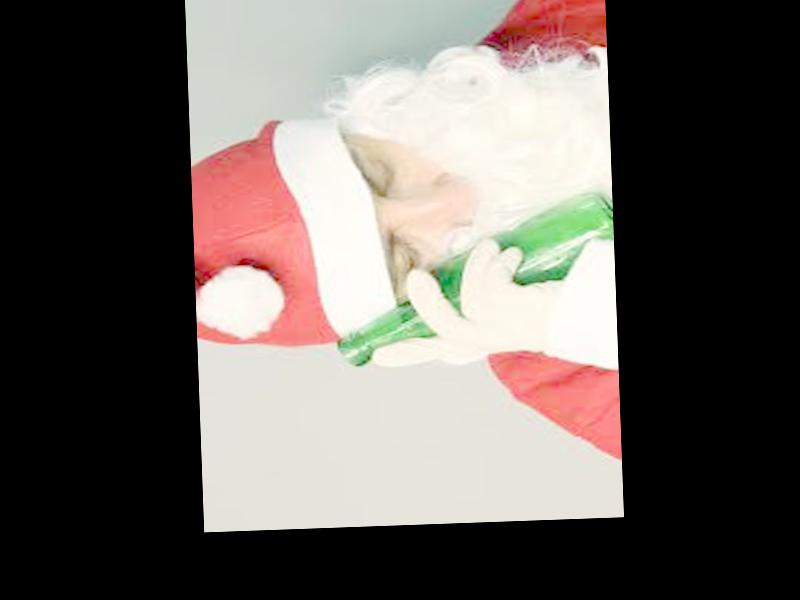Beer: (335, 194, 618, 369)
